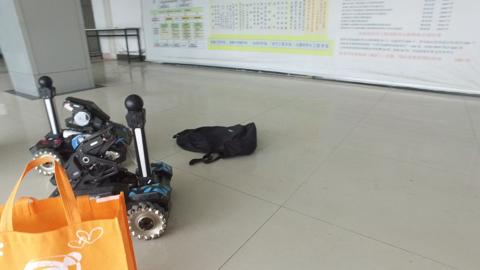chariot: (71, 100, 177, 235), (35, 77, 122, 173)
